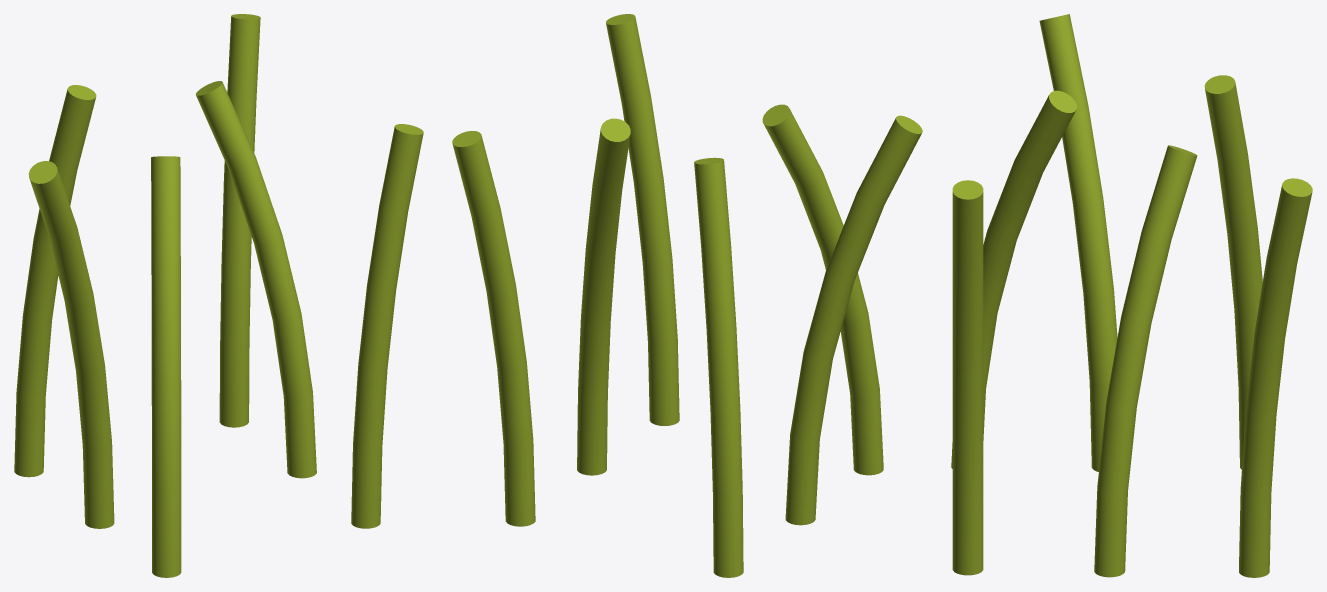
Rendered from TomatoSmall.FBX.
3 views of the same model, side by side, from view 1: azimuth 30°, elevation 25°; view 2: azimuth 150°, elevation 25°; view 3: azimuth 270°, elevation 25° (orthographic). The views are drawn at different scales.
Parts seen in each view (by area): view 1: Cylinder004; view 2: Cylinder004; view 3: Cylinder004.
Part boxes in pixels (<box>): Cylinder004: <box>14,14,423,577</box>; Cylinder004: <box>452,14,922,577</box>; Cylinder004: <box>951,14,1312,577</box>.
Size of the model in its own units: 21.68 by 23.43 by 18.53.
Materials: 1 (1 with a texture image).
